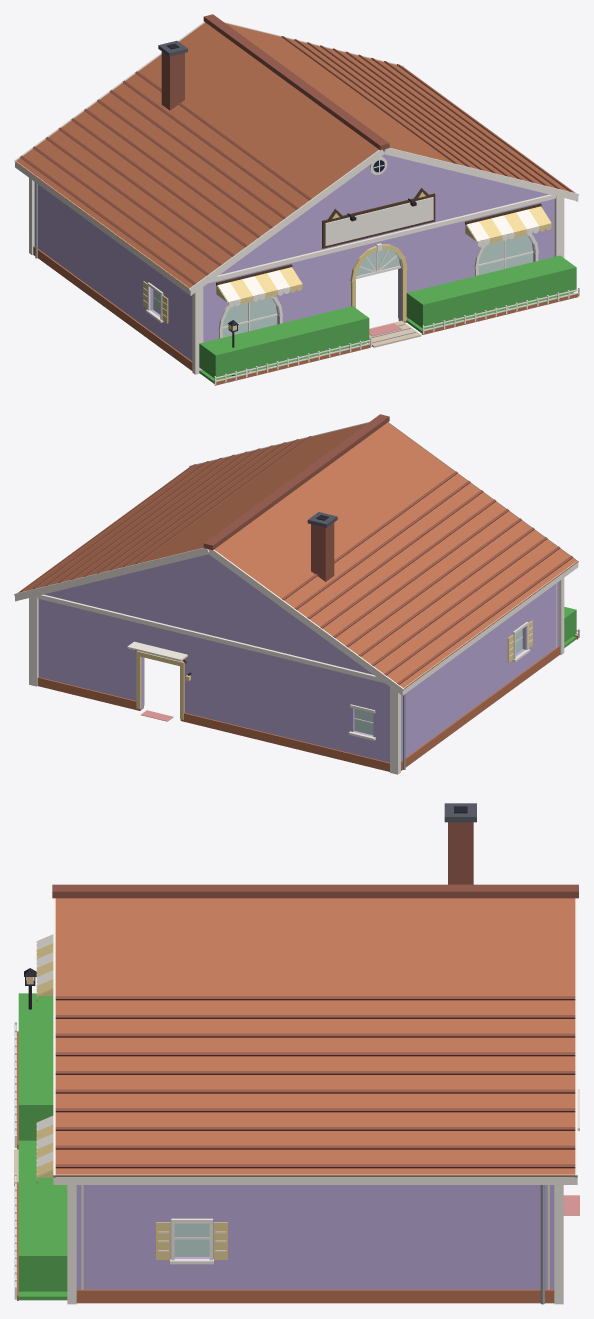
File: CatCafe_Plot_Cafe_Lilac_52x40.glb
The picture shows the model from 3 angles, top to bottom: view 1: azimuth 30°, elevation 25°; view 2: azimuth 150°, elevation 25°; view 3: azimuth 270°, elevation 25°; orthographic projection. The views are drawn at different scales.
Visible parts, largest first — view 1: CatCafe_Plot_Cafe_Lilac_52x40_Roof, CatCafe_Plot_Cafe_Lilac_52x40_Paint, CatCafe_Plot_Cafe_Lilac_52x40_Fireflies, CatCafe_Plot_Cafe_Lilac_52x40_Trim, CatCafe_Plot_Cafe_Lilac_52x40_Roof_Trim, CatCafe_Plot_Cafe_Lilac_52x40_Awning, CatCafe_Plot_Cafe_Lilac_52x40_Glass, CatCafe_Plot_Cafe_Lilac_52x40, CatCafe_Plot_Cafe_Lilac_52x40_Garden, CatCafe_Plot_Cafe_Lilac_52x40_SignBoard, CatCafe_Plot_Cafe_Lilac_52x40_Path, CatCafe_Plot_Cafe_Lilac_52x40_Flowers; view 2: CatCafe_Plot_Cafe_Lilac_52x40_Roof, CatCafe_Plot_Cafe_Lilac_52x40_Paint, CatCafe_Plot_Cafe_Lilac_52x40_Trim, CatCafe_Plot_Cafe_Lilac_52x40_Roof_Trim, CatCafe_Plot_Cafe_Lilac_52x40, CatCafe_Plot_Cafe_Lilac_52x40_Glass; view 3: CatCafe_Plot_Cafe_Lilac_52x40_Roof, CatCafe_Plot_Cafe_Lilac_52x40_Paint, CatCafe_Plot_Cafe_Lilac_52x40_Fireflies, CatCafe_Plot_Cafe_Lilac_52x40, CatCafe_Plot_Cafe_Lilac_52x40_Roof_Trim, CatCafe_Plot_Cafe_Lilac_52x40_Trim, CatCafe_Plot_Cafe_Lilac_52x40_Awning, CatCafe_Plot_Cafe_Lilac_52x40_Garden, CatCafe_Plot_Cafe_Lilac_52x40_Glass, CatCafe_Plot_Cafe_Lilac_52x40_Wallpaper.
Part boxes in pixels (left/top/right/bottom): CatCafe_Plot_Cafe_Lilac_52x40_Roof: left=15, top=14, right=574, bottom=288; CatCafe_Plot_Cafe_Lilac_52x40_Paint: left=34, top=154, right=554, bottom=360; CatCafe_Plot_Cafe_Lilac_52x40_Fireflies: left=199, top=255, right=576, bottom=378; CatCafe_Plot_Cafe_Lilac_52x40_Trim: left=29, top=156, right=564, bottom=374; CatCafe_Plot_Cafe_Lilac_52x40_Roof_Trim: left=14, top=21, right=578, bottom=295; CatCafe_Plot_Cafe_Lilac_52x40_Awning: left=216, top=206, right=551, bottom=307; CatCafe_Plot_Cafe_Lilac_52x40_Glass: left=153, top=234, right=533, bottom=337; CatCafe_Plot_Cafe_Lilac_52x40: left=33, top=160, right=533, bottom=370; CatCafe_Plot_Cafe_Lilac_52x40_Garden: left=214, top=287, right=579, bottom=385; CatCafe_Plot_Cafe_Lilac_52x40_SignBoard: left=325, top=197, right=433, bottom=245; CatCafe_Plot_Cafe_Lilac_52x40_Path: left=367, top=320, right=421, bottom=347; CatCafe_Plot_Cafe_Lilac_52x40_Flowers: left=199, top=292, right=573, bottom=383; CatCafe_Plot_Cafe_Lilac_52x40_Roof: left=18, top=414, right=577, bottom=688; CatCafe_Plot_Cafe_Lilac_52x40_Paint: left=38, top=554, right=558, bottom=762; CatCafe_Plot_Cafe_Lilac_52x40_Trim: left=29, top=578, right=564, bottom=774; CatCafe_Plot_Cafe_Lilac_52x40_Roof_Trim: left=14, top=422, right=578, bottom=695; CatCafe_Plot_Cafe_Lilac_52x40: left=37, top=620, right=559, bottom=771; CatCafe_Plot_Cafe_Lilac_52x40_Glass: left=354, top=629, right=522, bottom=734; CatCafe_Plot_Cafe_Lilac_52x40_Roof: left=52, top=803, right=578, bottom=1176; CatCafe_Plot_Cafe_Lilac_52x40_Paint: left=76, top=1185, right=554, bottom=1289; CatCafe_Plot_Cafe_Lilac_52x40_Fireflies: left=18, top=993, right=67, bottom=1291; CatCafe_Plot_Cafe_Lilac_52x40: left=76, top=1185, right=579, bottom=1304; CatCafe_Plot_Cafe_Lilac_52x40_Roof_Trim: left=53, top=898, right=577, bottom=1184; CatCafe_Plot_Cafe_Lilac_52x40_Trim: left=67, top=1089, right=579, bottom=1304; CatCafe_Plot_Cafe_Lilac_52x40_Awning: left=36, top=934, right=53, bottom=1183; CatCafe_Plot_Cafe_Lilac_52x40_Garden: left=14, top=968, right=36, bottom=1300; CatCafe_Plot_Cafe_Lilac_52x40_Glass: left=174, top=1223, right=209, bottom=1256; CatCafe_Plot_Cafe_Lilac_52x40_Wallpaper: left=81, top=1185, right=549, bottom=1289.
Bounding box in the file's own units: 57.86 × 29.13 × 48.8.
1 material, 1 textured.
